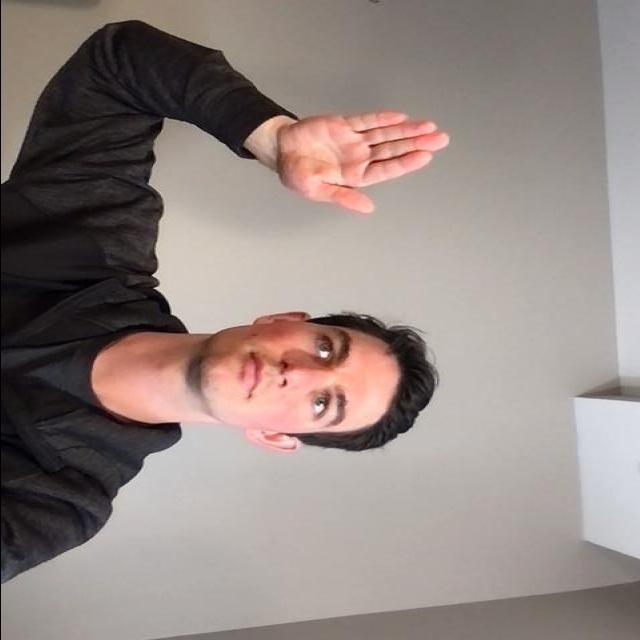Paper: (268, 102, 458, 221)
